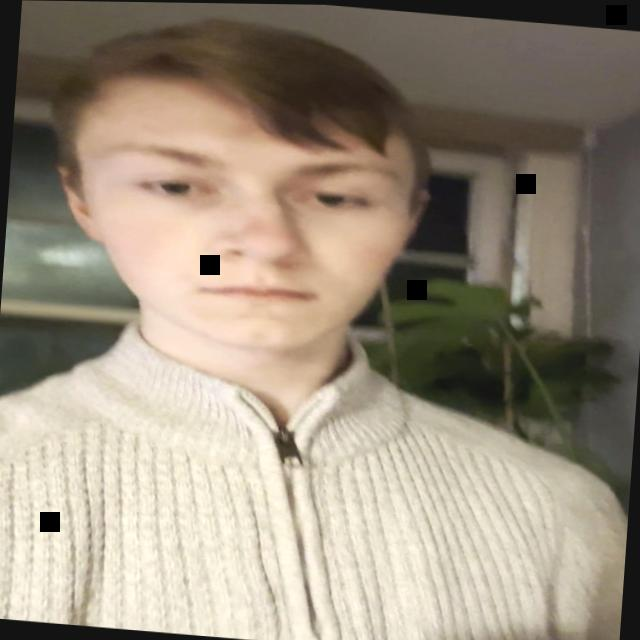NO-Mask: (54, 49, 431, 361)
